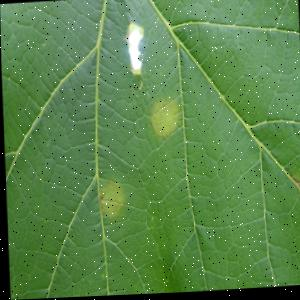Folha: (0, 0, 300, 300)
Fungo: (146, 95, 181, 140), (96, 179, 124, 221)
